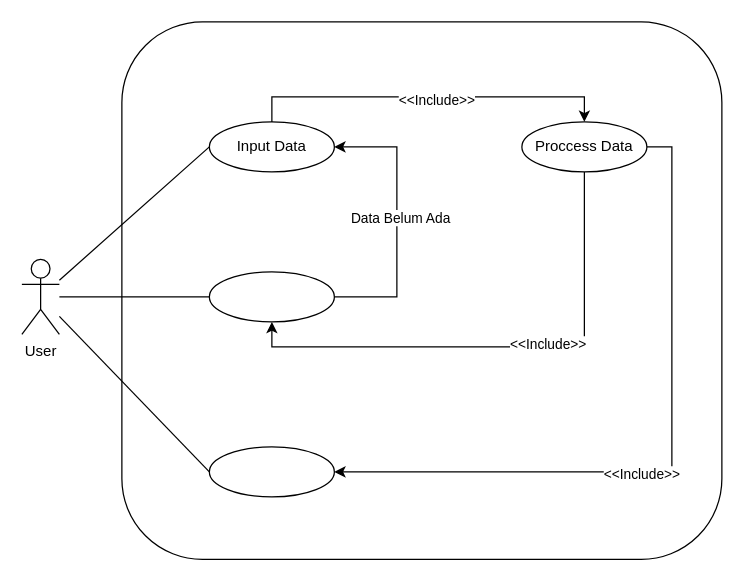
Image size: 744x581. Some labels were removed from this diagram. Here are the shapes that lost their labels. From the top down, the box of each, then its label:
(208, 271, 334, 322): Read Analysis
(208, 446, 334, 497): Get Notification
